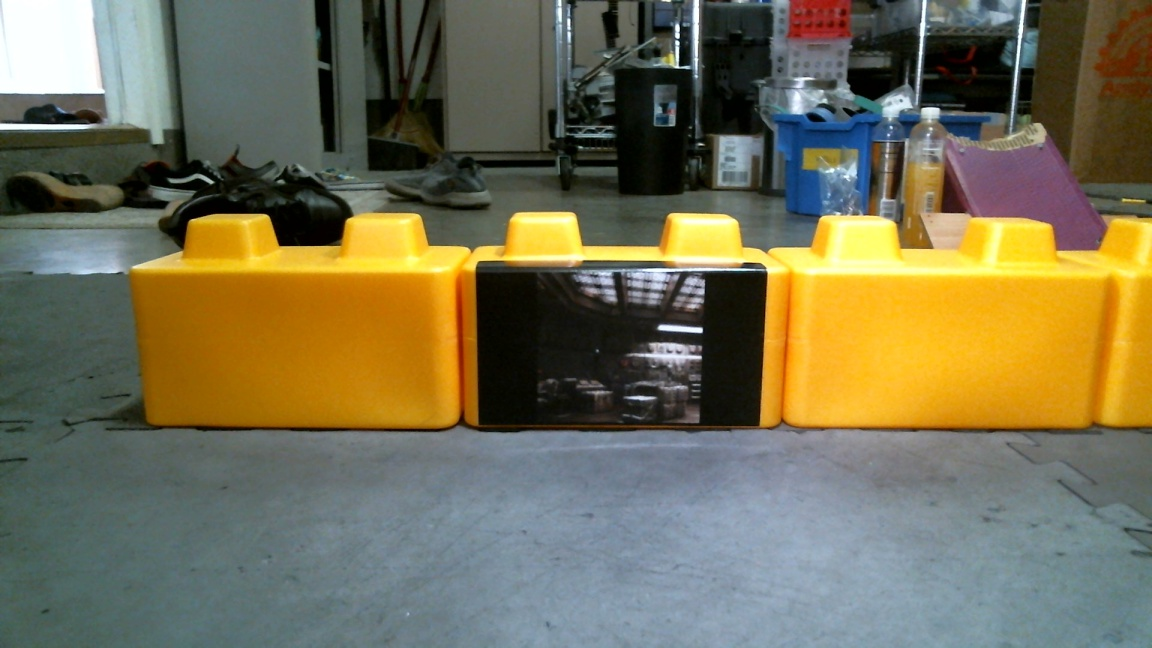center: (133, 224, 1092, 438)
